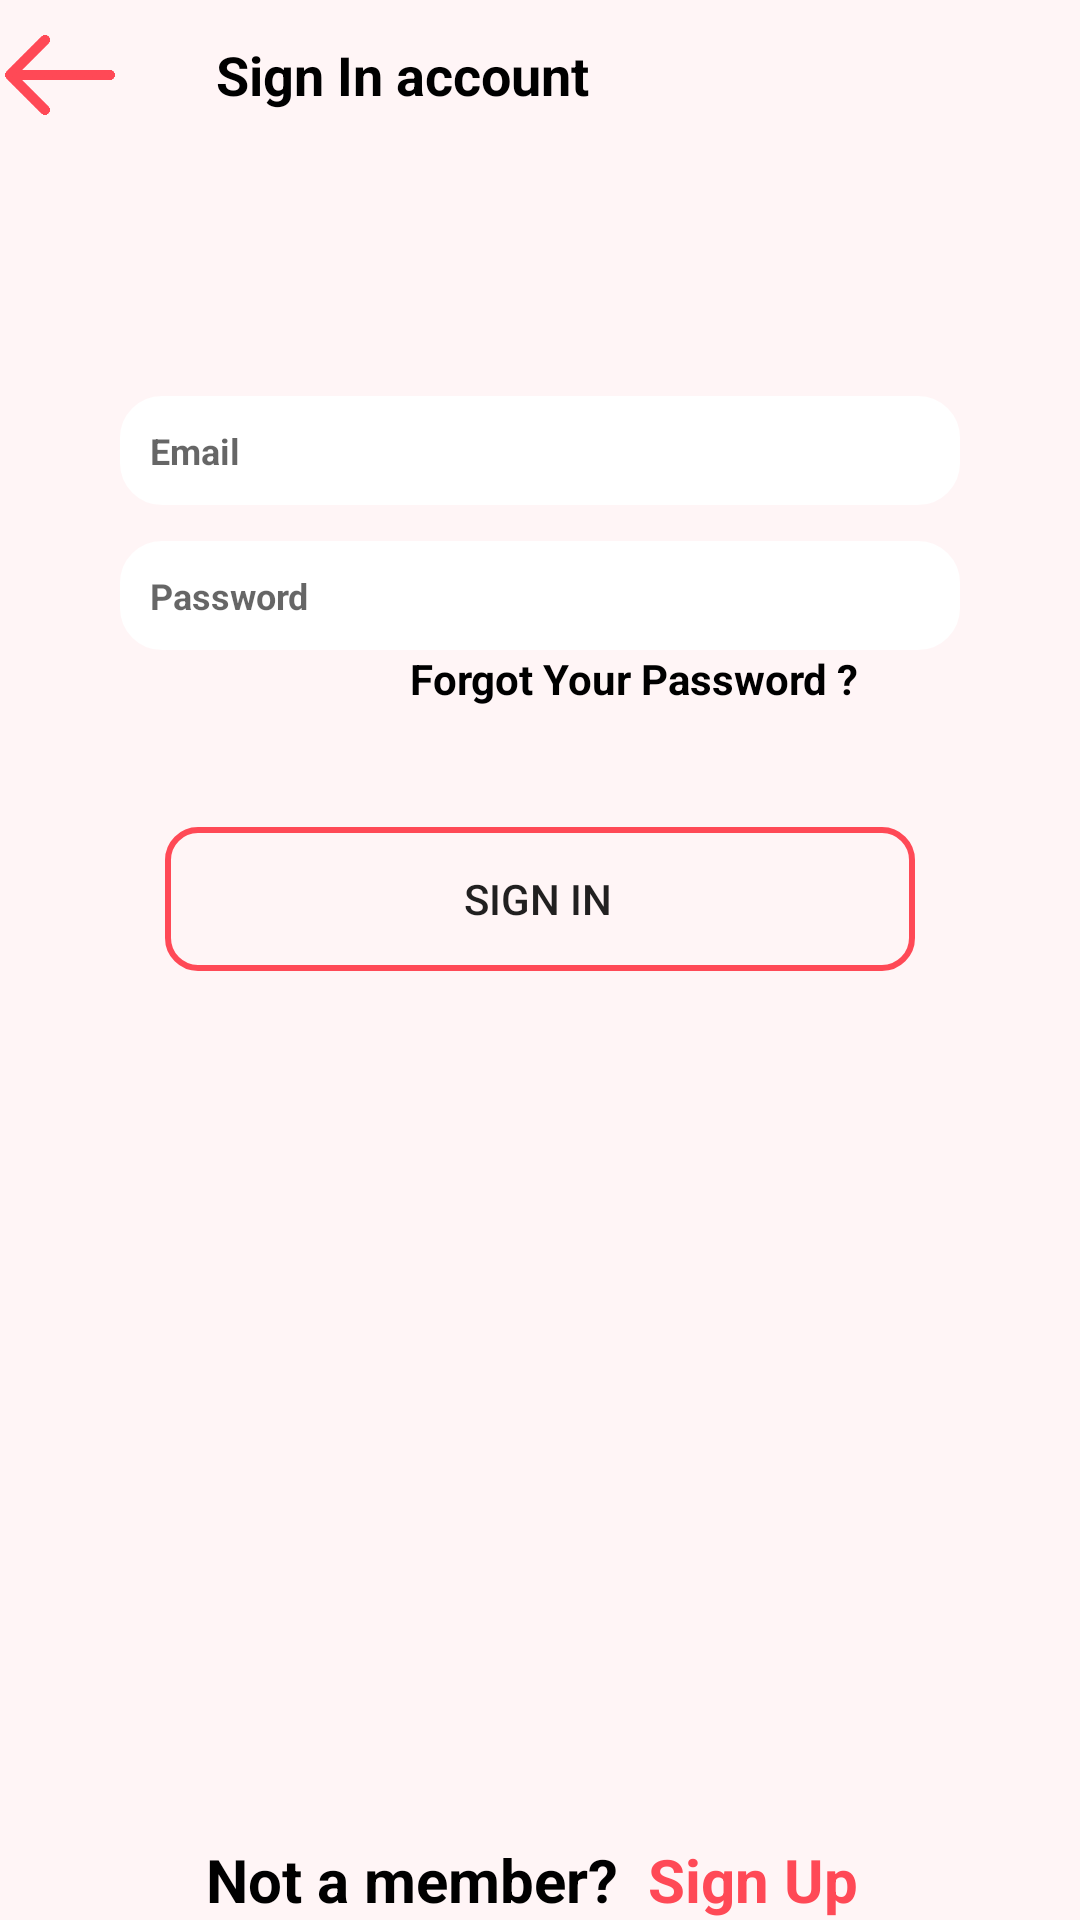

Locate icon controls on the screen. Image size 1080x1920, boxes as (x1, y1, x2, y2).
back arrow: (5, 35, 115, 115)
